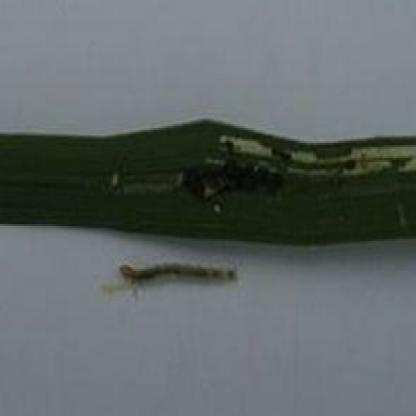leaf-folder: (104, 236, 251, 320)
